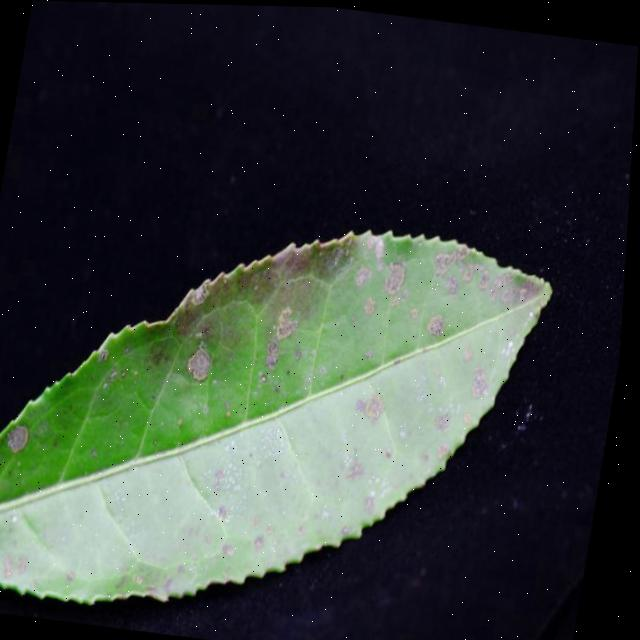Tea red rust: (11, 189, 539, 640)
